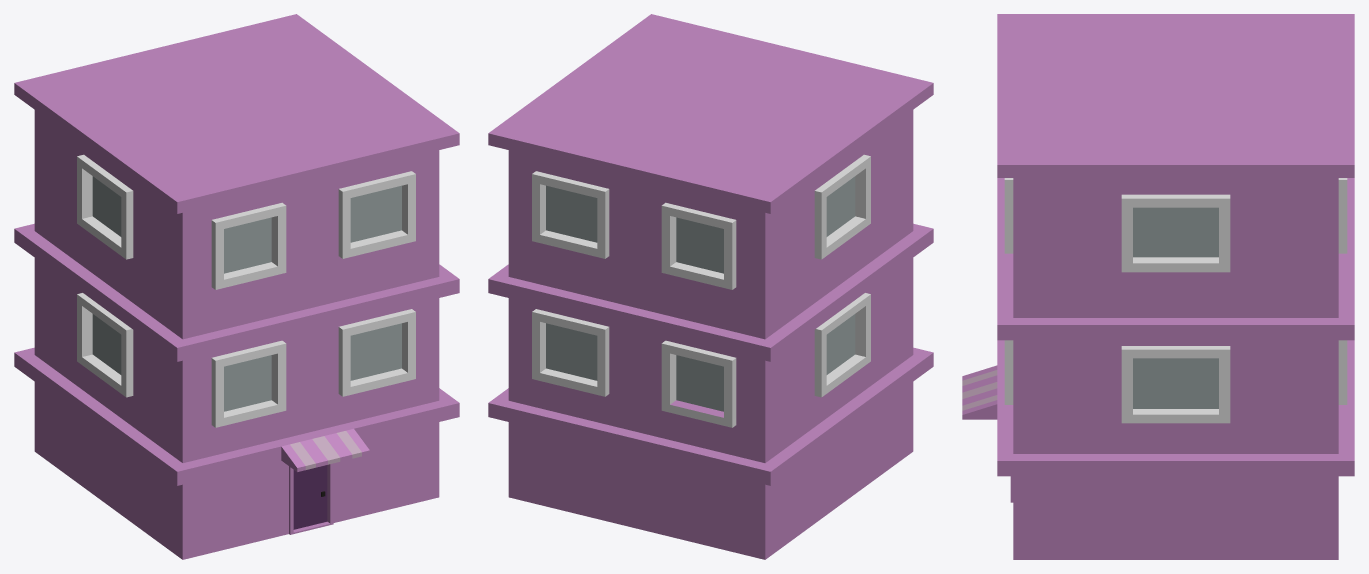
The model's file is Pink_Building.fbx.
3 renders of one model, left to right at view 1: azimuth 30°, elevation 25°; view 2: azimuth 150°, elevation 25°; view 3: azimuth 270°, elevation 25°, orthographic. The views are drawn at different scales.
Parts seen in each view (by area): view 1: Pink_House; view 2: Pink_House; view 3: Pink_House.
Boxes of the visible parts, bbox=[...] form: Pink_House: bbox=[14, 14, 459, 559]; Pink_House: bbox=[488, 14, 933, 559]; Pink_House: bbox=[962, 14, 1354, 559].
Size of the model in its own units: 11 by 13.63 by 12.08.
